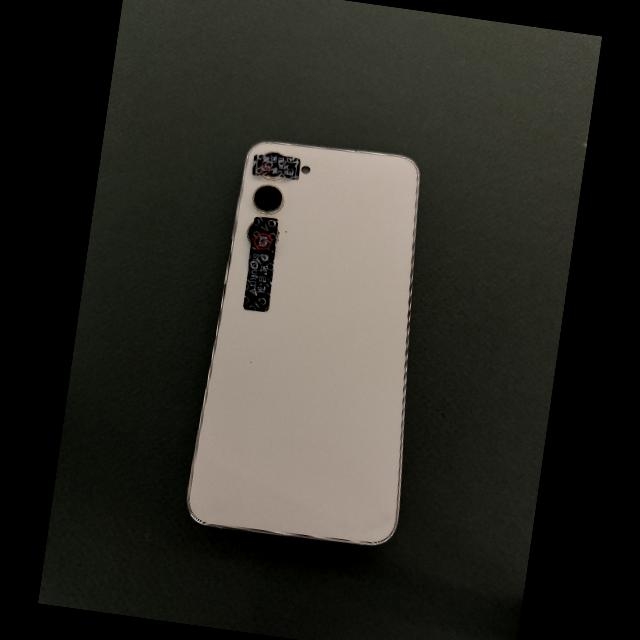lens: (253, 185, 284, 215), (247, 221, 254, 245), (261, 175, 284, 181)
phone: (188, 143, 419, 545)
sticker: (244, 217, 278, 312), (252, 154, 300, 180)
